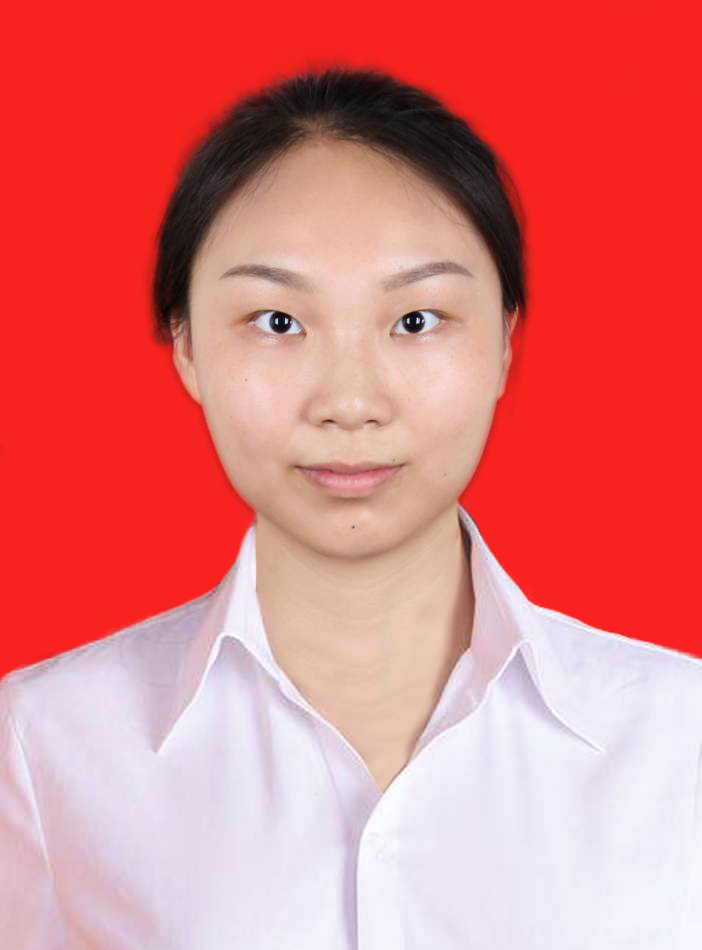unmask: (208, 173, 496, 532)
